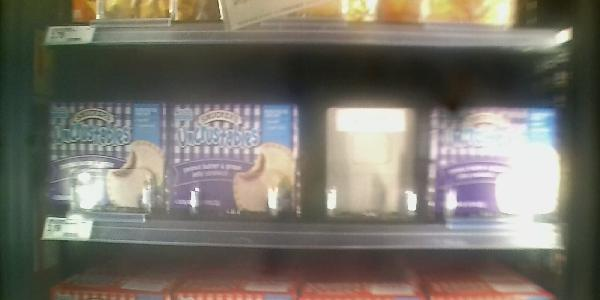icecream: (167, 100, 302, 223), (428, 104, 565, 221), (48, 100, 166, 216)
